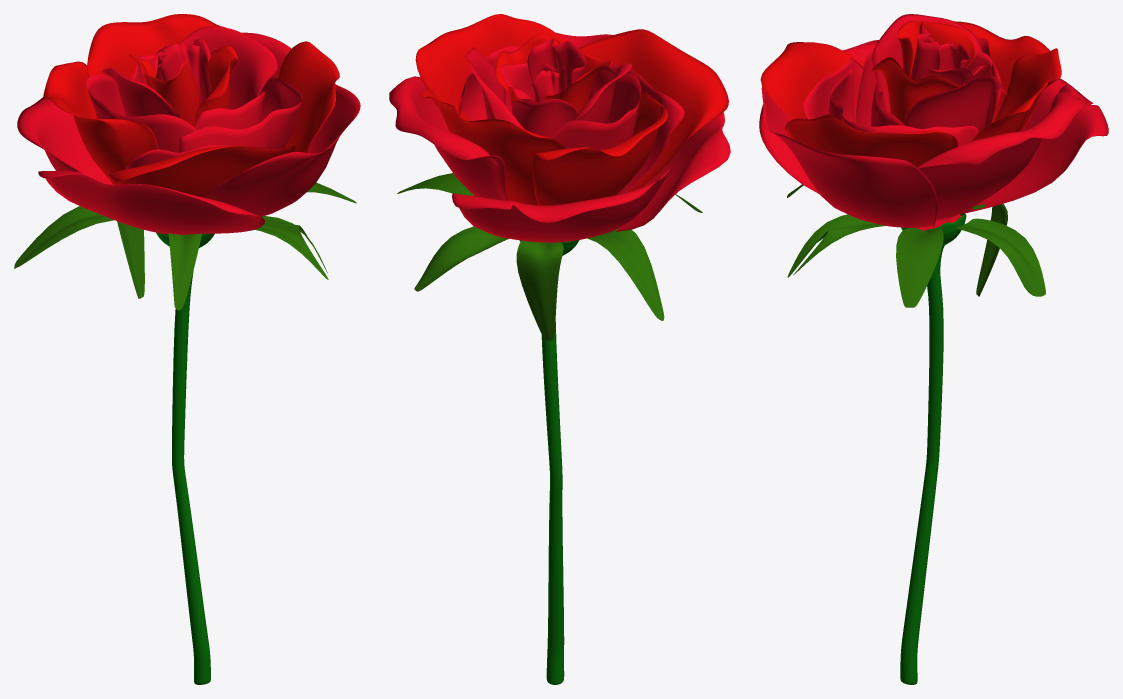
Rendered from RedRose.fbx.
3 renders of one model, left to right at view 1: azimuth 30°, elevation 25°; view 2: azimuth 150°, elevation 25°; view 3: azimuth 270°, elevation 25°, orthographic.
Visible parts, largest first — view 1: Circle.002; view 2: Circle.002; view 3: Circle.002.
Boxes of the visible parts, x1,y1,x2,y2 form: Circle.002: (14,14,360,684); Circle.002: (389,14,730,684); Circle.002: (759,14,1108,684).
Size of the model in its own units: 14.46 by 27.81 by 13.55.
